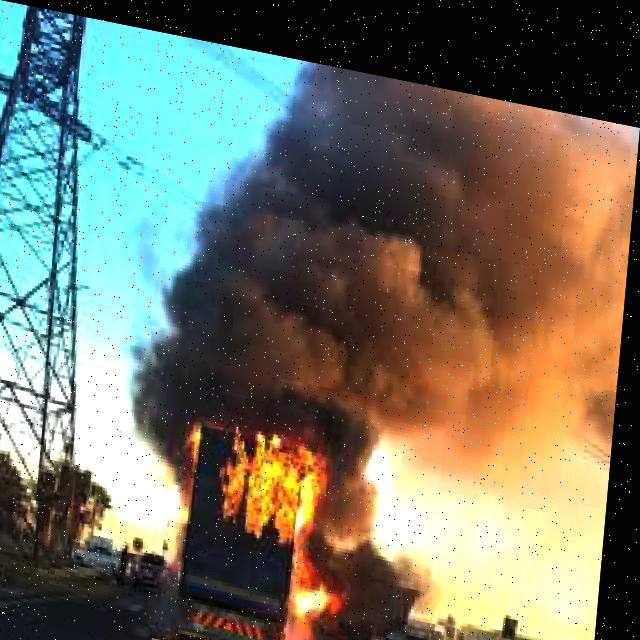Fire: (177, 391, 369, 639)
